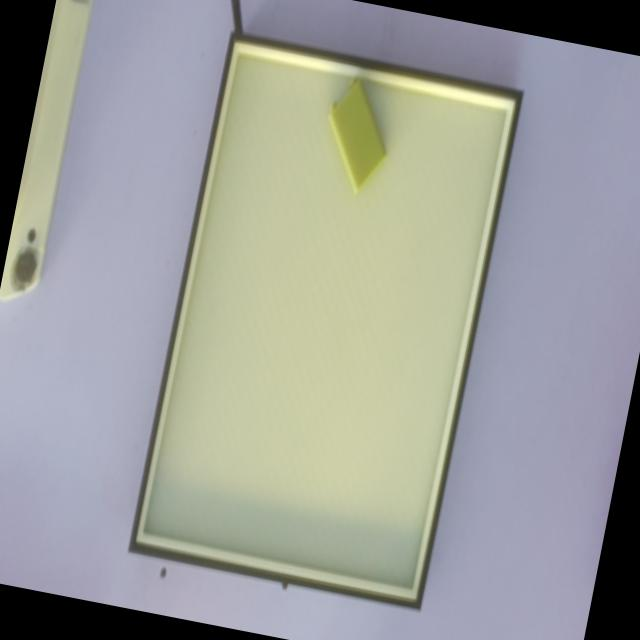bateria: (327, 77, 389, 197)
mesa: (128, 31, 524, 610)
